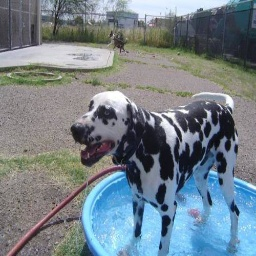dog: (68, 72, 242, 256)
